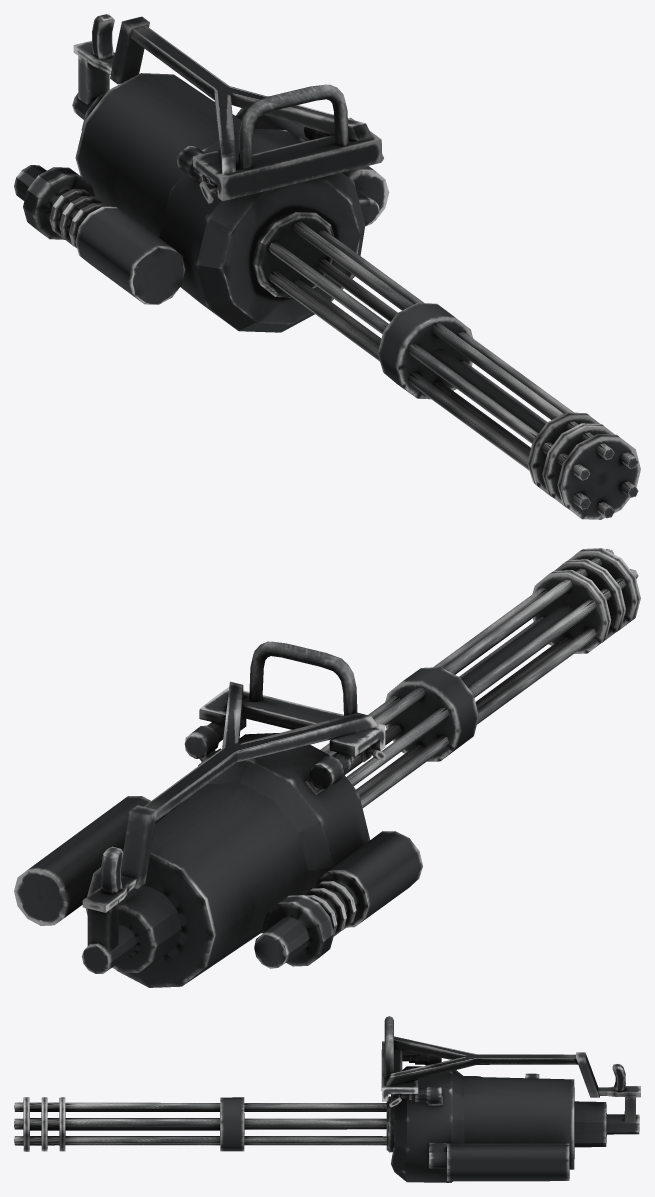
The model's file is minigun.glb.
The picture shows the model from 3 angles, top to bottom: view 1: azimuth 30°, elevation 25°; view 2: azimuth 150°, elevation 25°; view 3: azimuth 270°, elevation 25°; orthographic projection. The views are drawn at different scales.
Parts seen in each view (by area): view 1: Object_2; view 2: Object_2; view 3: Object_2.
Part boxes in pixels (box(x1,y1,x2,y2)): Object_2: box(14, 14, 640, 519); Object_2: box(14, 548, 640, 987); Object_2: box(14, 1016, 640, 1182).
Bounding box in the file's own units: 76.95 × 64.29 × 242.
1 material, 1 textured.
